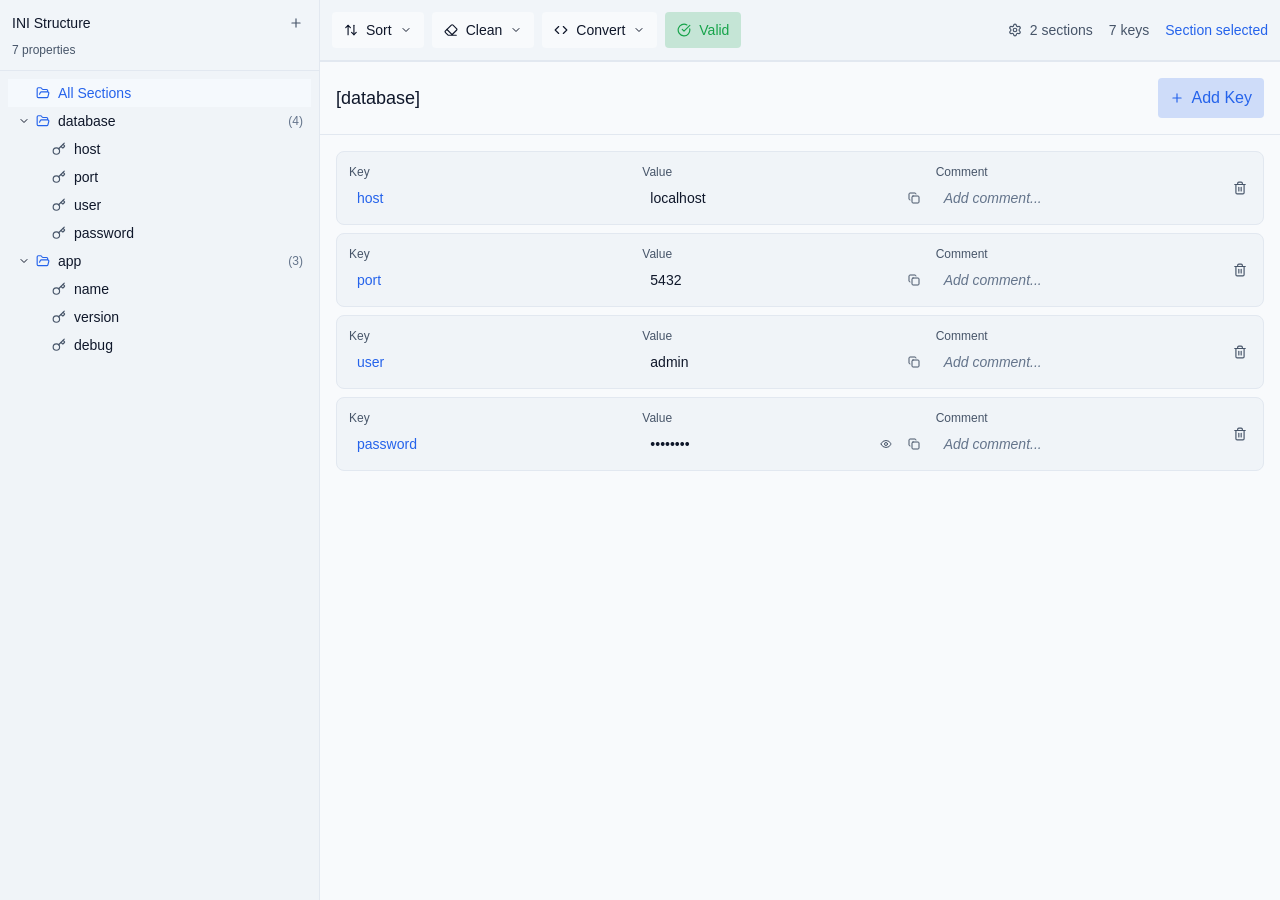
Scenario: IniSmartView › should open cleaning menu
Click the button "Clean".
click(483, 30)  # box [432, 12, 534, 48]
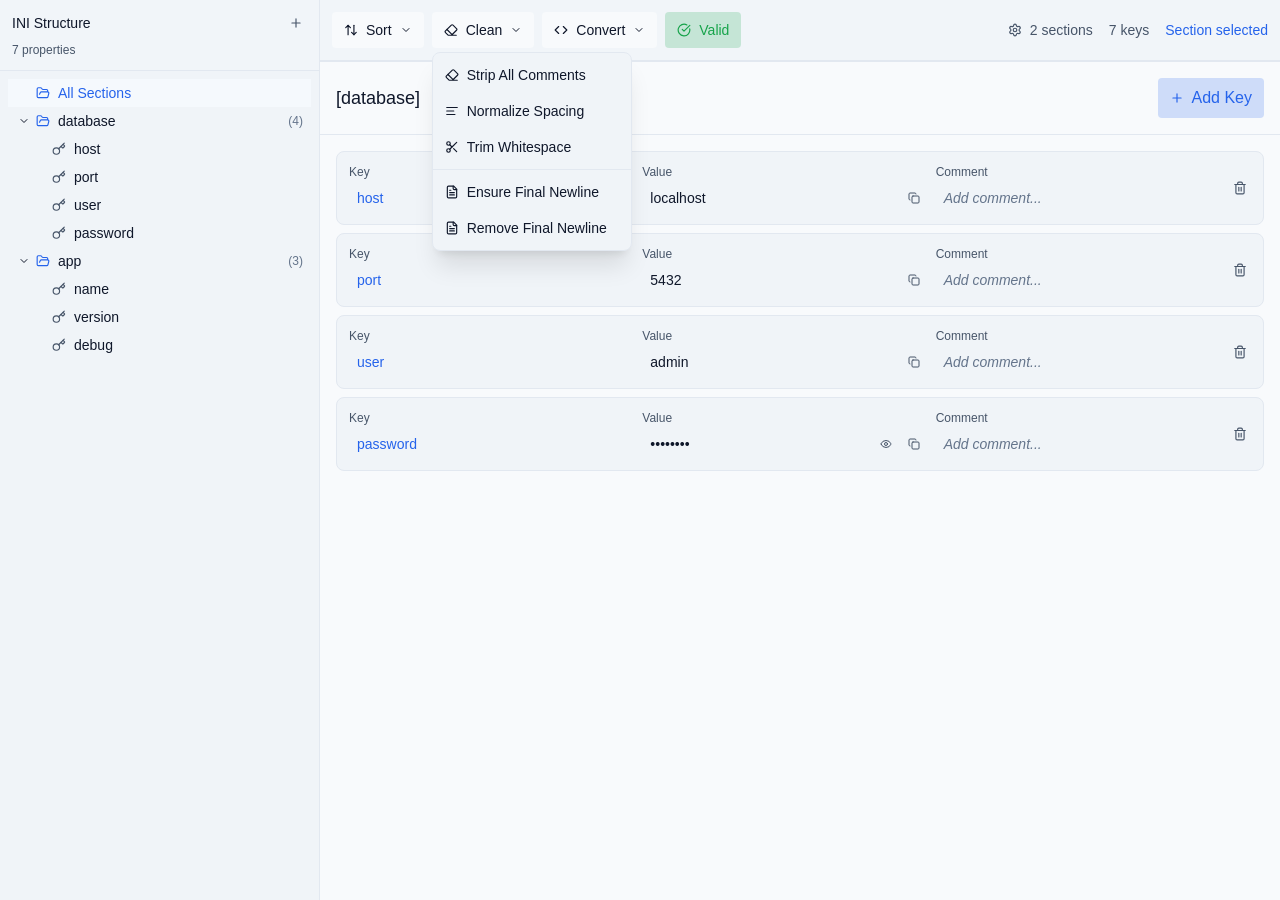
expect the text "Strip All Comments" is shown: met, box [467, 65, 586, 85]
expect the text "Normalize Spacing" is shown: met, box [467, 101, 584, 121]
expect the text "Trim Whitespace" is shown: met, box [467, 137, 571, 157]
